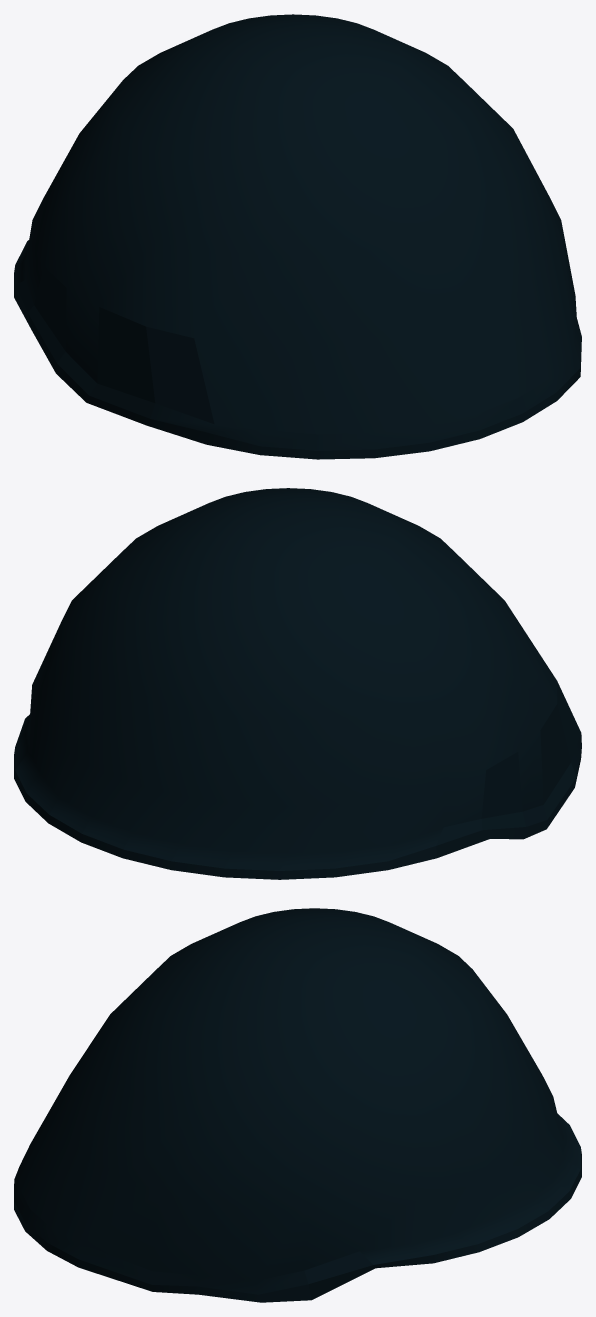
File: Blight's Gasp New Helmet.fbx
The picture shows the model from 3 angles, top to bottom: view 1: azimuth 30°, elevation 25°; view 2: azimuth 150°, elevation 25°; view 3: azimuth 270°, elevation 25°; orthographic projection. The views are drawn at different scales.
Visible parts, largest first — view 1: Helmet; view 2: Helmet; view 3: Helmet.
Part boxes in pixels (x1=…): Helmet: x1=14, y1=14, x2=581, y2=459; Helmet: x1=14, y1=488, x2=581, y2=879; Helmet: x1=14, y1=908, x2=581, y2=1302.
Bounding box in the file's own units: 2.12 × 1.22 × 2.34.
